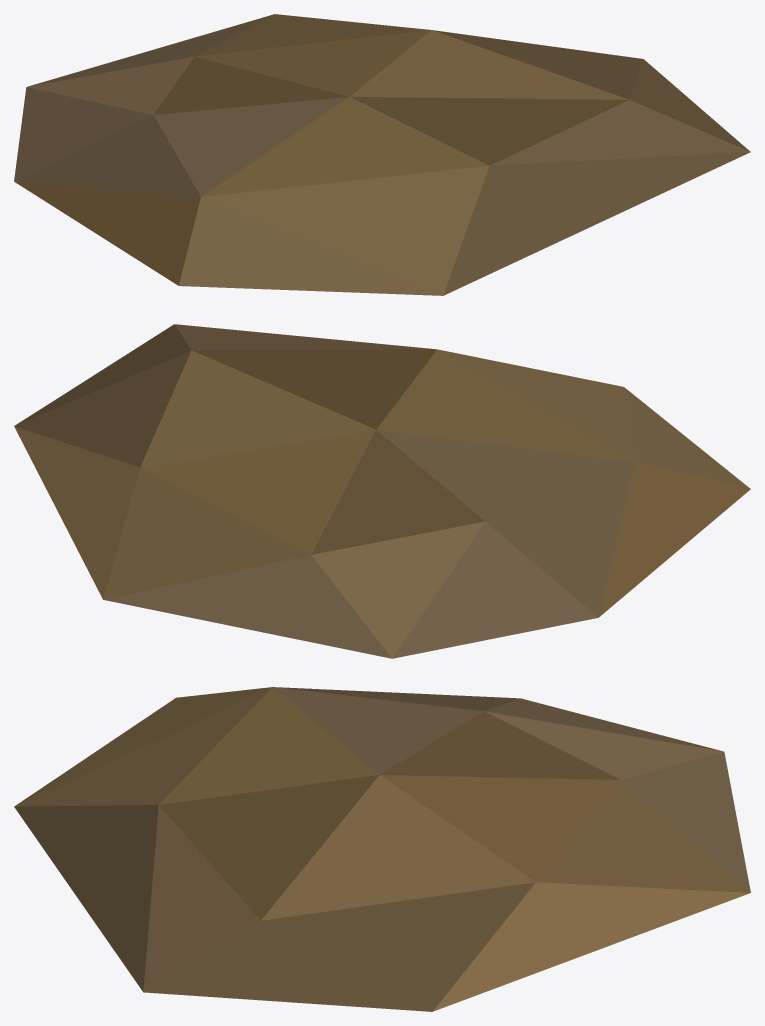
The model's file is DirtPatch.glb.
3 views of the same model, one above another, from view 1: azimuth 30°, elevation 25°; view 2: azimuth 150°, elevation 25°; view 3: azimuth 270°, elevation 25° (orthographic). The views are drawn at different scales.
Visible parts, largest first — view 1: DirtPatch; view 2: DirtPatch; view 3: DirtPatch.
Part boxes in pixels (left/top/right/bottom): DirtPatch: left=14, top=14, right=750, bottom=295; DirtPatch: left=14, top=324, right=750, bottom=658; DirtPatch: left=14, top=687, right=750, bottom=1011.
Size of the model in its own units: 0.6096 by 0.0637 by 0.5896.
